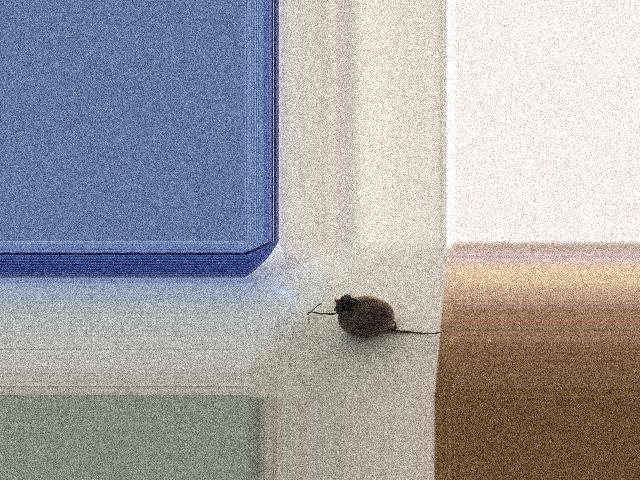beet: (307, 295, 445, 337)
